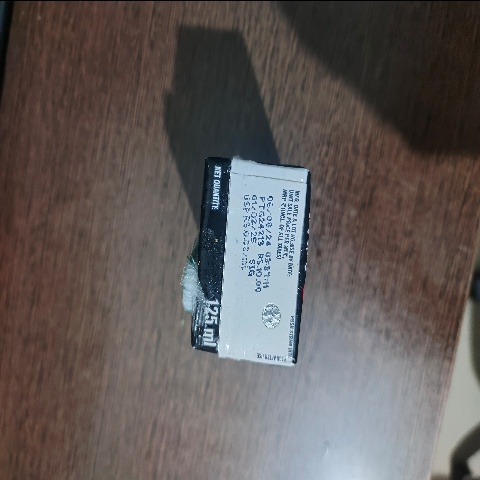appy: (157, 141, 326, 371)
